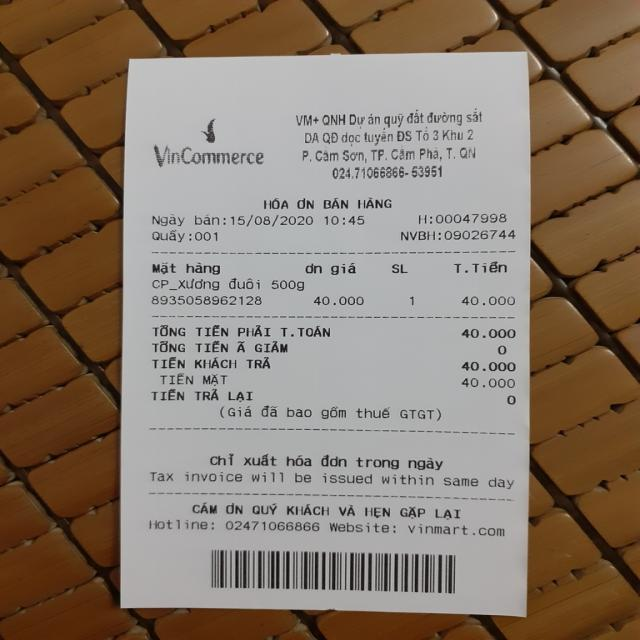Date: (230, 212, 316, 228)
Store_Name: (153, 144, 269, 168)
amount_number: (461, 326, 517, 341)
label_total: (150, 322, 334, 338)
